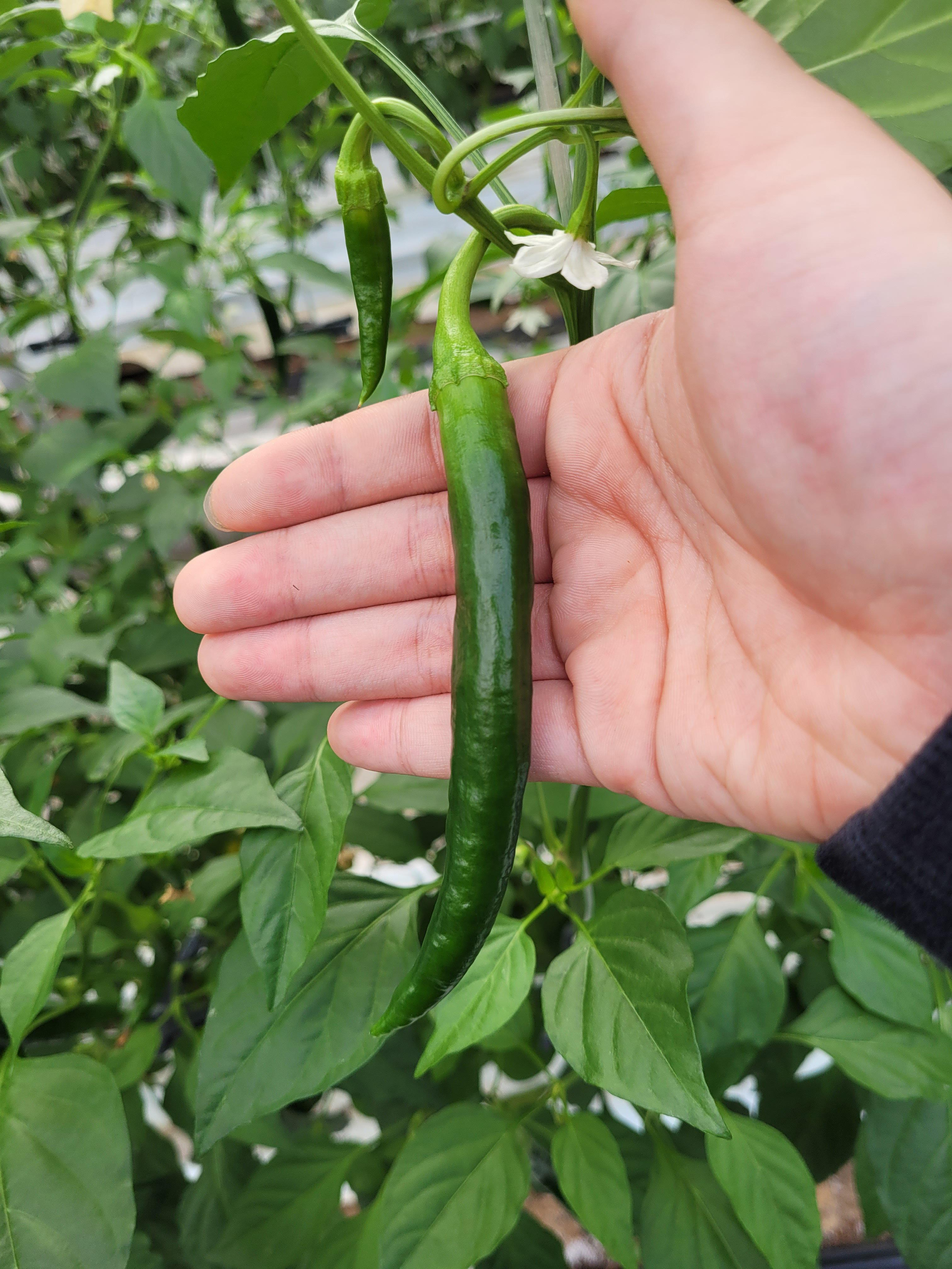Buah Cabai Sehat: (394, 306, 543, 1038)
